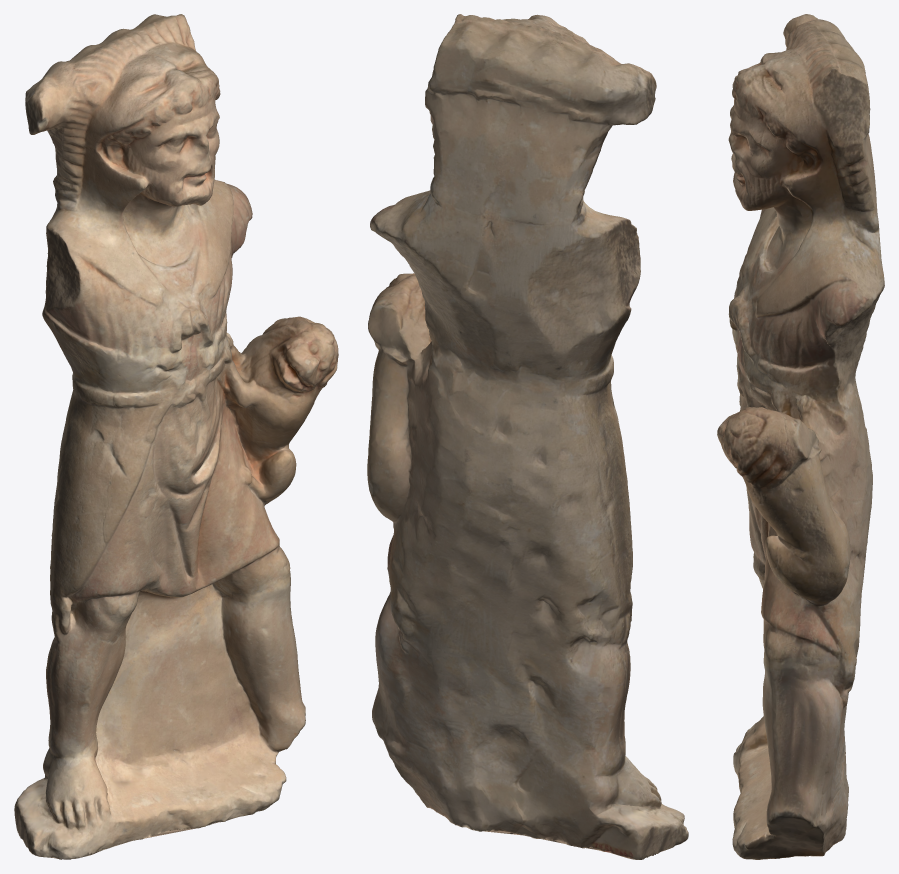
Rendered from preview.glb.
The picture shows the model from 3 angles, left to right: view 1: azimuth 30°, elevation 25°; view 2: azimuth 150°, elevation 25°; view 3: azimuth 270°, elevation 25°; orthographic projection. The views are drawn at different scales.
Visible parts, largest first — view 1: _n3d; view 2: _n3d; view 3: _n3d.
Boxes of the visible parts, x1,y1,x2,y2 form: _n3d: (14, 14, 338, 859); _n3d: (367, 14, 688, 859); _n3d: (717, 14, 884, 859).
Bounding box in the file's own units: 0.1844 × 0.4563 × 0.0898.
1 material, 1 textured.
